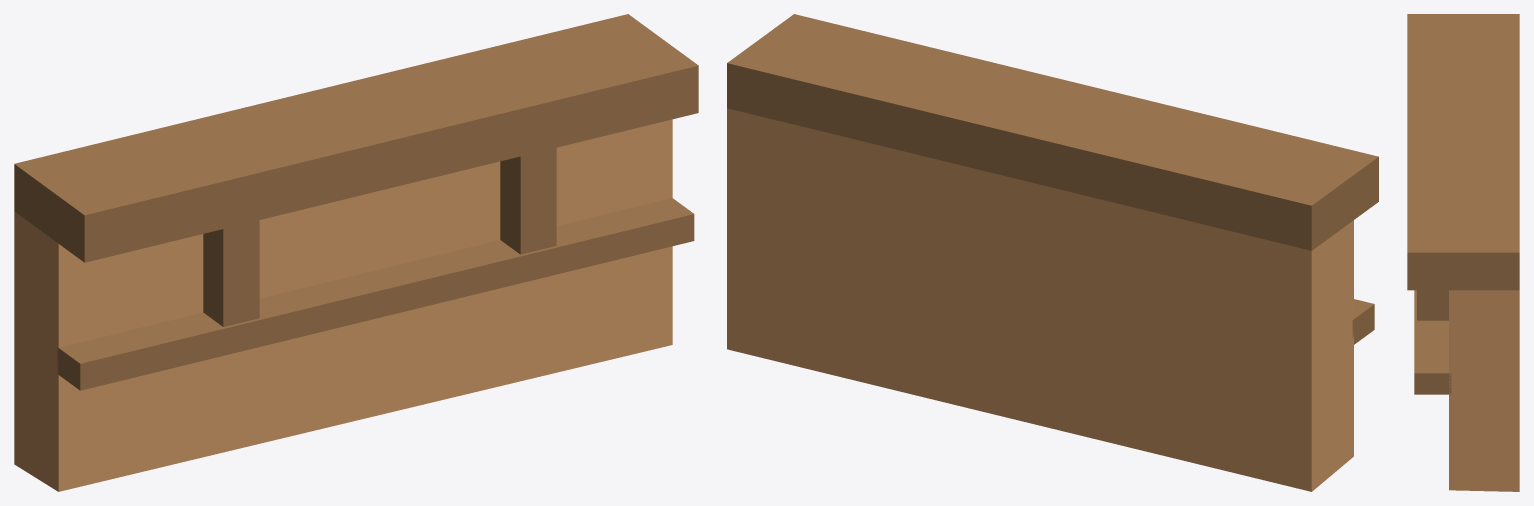
Rendered from Normal Wall Top.glb.
3 views of the same model, side by side, from view 1: azimuth 30°, elevation 25°; view 2: azimuth 150°, elevation 25°; view 3: azimuth 270°, elevation 25° (orthographic). The views are drawn at different scales.
Parts seen in each view (by area): view 1: Wall_Normal; view 2: Wall_Normal; view 3: Wall_Normal.
Boxes of the visible parts, x1,y1,x2,y2 form: Wall_Normal: (14, 14, 698, 491); Wall_Normal: (727, 14, 1378, 491); Wall_Normal: (1407, 14, 1519, 491).
Size of the model in its own units: 4 by 1.87 by 0.7952.
1 material, 1 textured.
